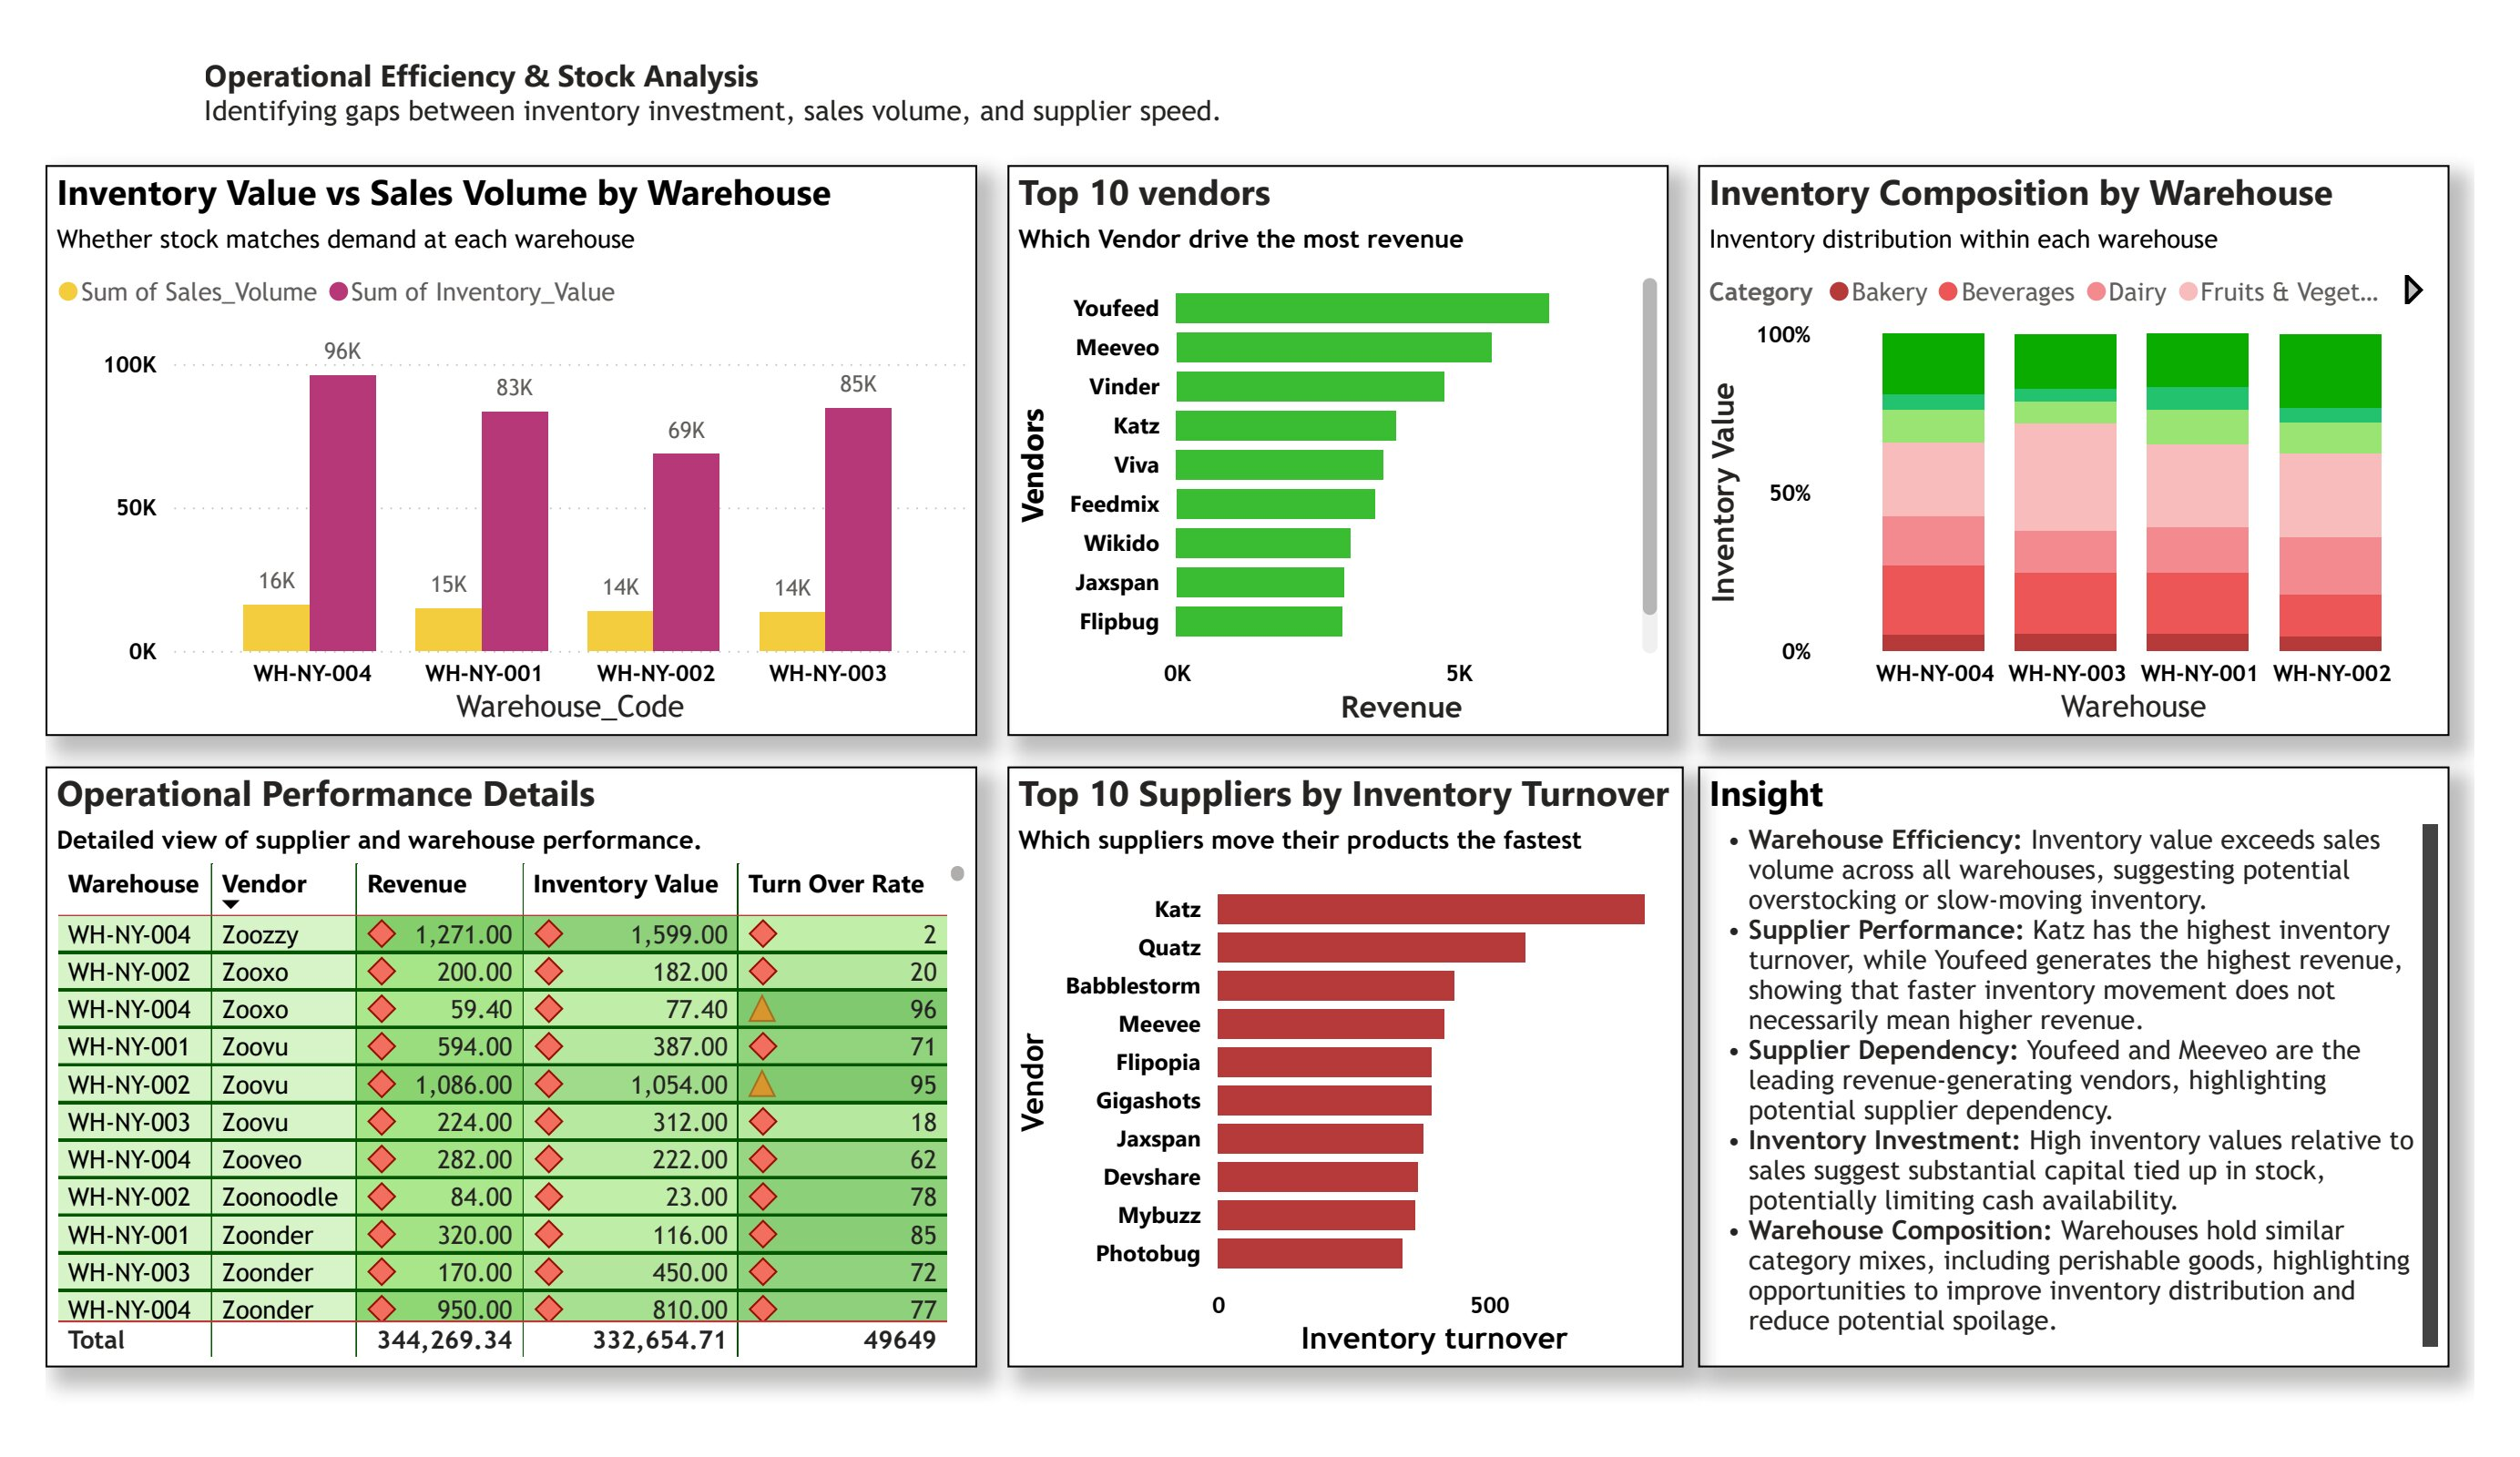

Layout of this report page (visuals, bound fields, positions):
{"tool":"powerbi","page":{"name":"Stock analysis","canvas":[1280,720],"ordinal":3},"visuals":[{"type":"clusteredBarChart","title":"Top 10 vendors","fields":{"Category":["Grocery_Inventory_Data.Vendor_Name"],"Y":["Sum(Grocery_Inventory_Data.Revenue)"]},"box":[512,64,352,304],"z":0},{"type":"clusteredColumnChart","title":"Inventory Value vs Sales Volume by Warehouse","fields":{"Category":["Grocery_Inventory_Data.Warehouse_Code"],"Y":["Sum(Grocery_Inventory_Data.Sales_Volume)","Sum(Grocery_Inventory_Data.Inventory_Value)"]},"box":[0,64,496,304],"z":1000},{"type":"tableEx","title":"Operational Performance Details","fields":{"Values":["Grocery_Inventory_Data.Warehouse_Code","Grocery_Inventory_Data.Vendor_Name","Sum(Grocery_Inventory_Data.Revenue)","Sum(Grocery_Inventory_Data.Inventory_Value)","Sum(Grocery_Inventory_Data.Inventory_Turnover_Rate)"]},"box":[0,384,496,320],"z":2000},{"type":"clusteredBarChart","title":"Top 10 Suppliers by Inventory Turnover","fields":{"Category":["Grocery_Inventory_Data.Vendor_Name"],"Y":["Sum(Grocery_Inventory_Data.Inventory_Turnover_Rate)"]},"box":[512,384,360,320],"z":3000},{"type":"hundredPercentStackedColumnChart","title":"Inventory Composition by Warehouse","fields":{"Category":["Grocery_Inventory_Data.Warehouse_Code"],"Series":["Grocery_Inventory_Data.Category"],"Y":["Sum(Grocery_Inventory_Data.Inventory_Value)"]},"box":[880,64,400,304],"z":4000},{"type":"textbox","title":"Insight","box":[880,384,400,320],"z":5000},{"type":"textbox","box":[80,0,784,48],"z":6000}]}

Visuals, with their boxes on the page's 1280x720 design canvas (x1, y1, x2, y2). These are canvas units, not pixel positions in the 2520x1457 screenshot, which may show the page scaled, cropped or inside an application window:
"Top 10 vendors" clusteredBarChart: (left=512, top=64, right=864, bottom=368)
"Inventory Value vs Sales Volume by Warehouse" clusteredColumnChart: (left=0, top=64, right=496, bottom=368)
"Operational Performance Details" tableEx: (left=0, top=384, right=496, bottom=704)
"Top 10 Suppliers by Inventory Turnover" clusteredBarChart: (left=512, top=384, right=872, bottom=704)
"Inventory Composition by Warehouse" hundredPercentStackedColumnChart: (left=880, top=64, right=1280, bottom=368)
"Insight" textbox: (left=880, top=384, right=1280, bottom=704)
textbox: (left=80, top=0, right=864, bottom=48)
